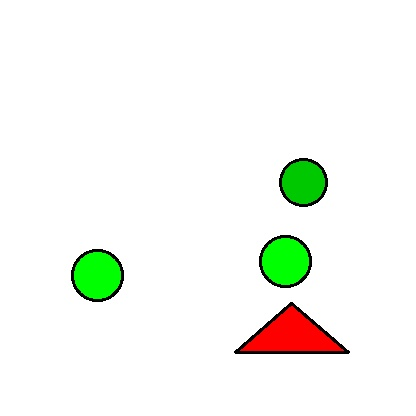circle: (51, 250, 144, 301), (260, 228, 310, 294), (273, 159, 334, 205)
triangle: (235, 303, 348, 352)
